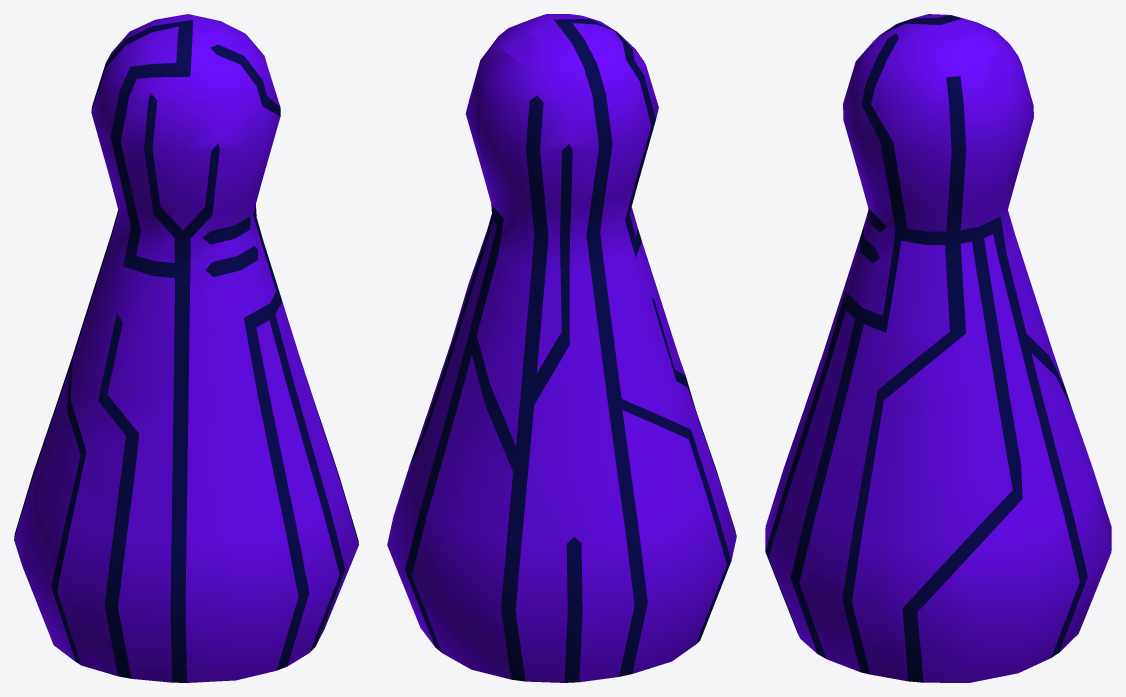
The model's file is chippurple.obj.
The picture shows the model from 3 angles, left to right: view 1: azimuth 30°, elevation 25°; view 2: azimuth 150°, elevation 25°; view 3: azimuth 270°, elevation 25°; orthographic projection.
Parts seen in each view (by area): view 1: Куб.011_Куб.013; view 2: Куб.011_Куб.013; view 3: Куб.011_Куб.013.
Part boxes in pixels (<box>): Куб.011_Куб.013: <box>14,14,358,682</box>; Куб.011_Куб.013: <box>387,14,736,682</box>; Куб.011_Куб.013: <box>765,14,1111,682</box>.
Bounding box in the file's own units: 0.2366 × 0.4544 × 0.2368.
